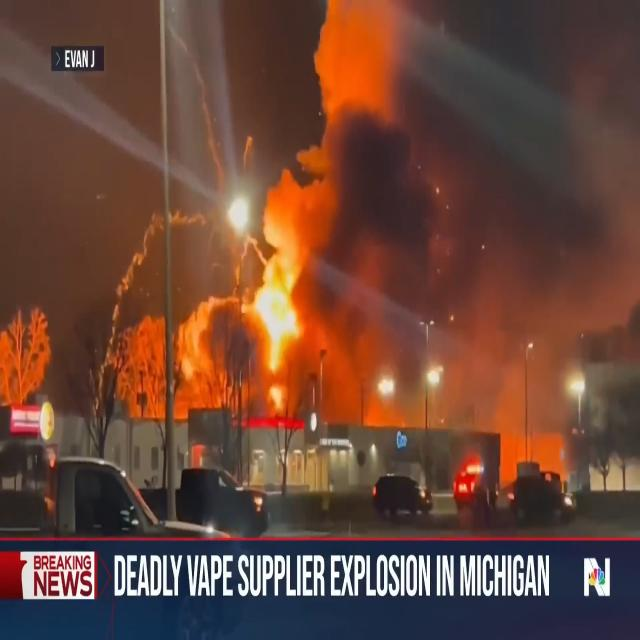fire: (170, 101, 437, 461)
